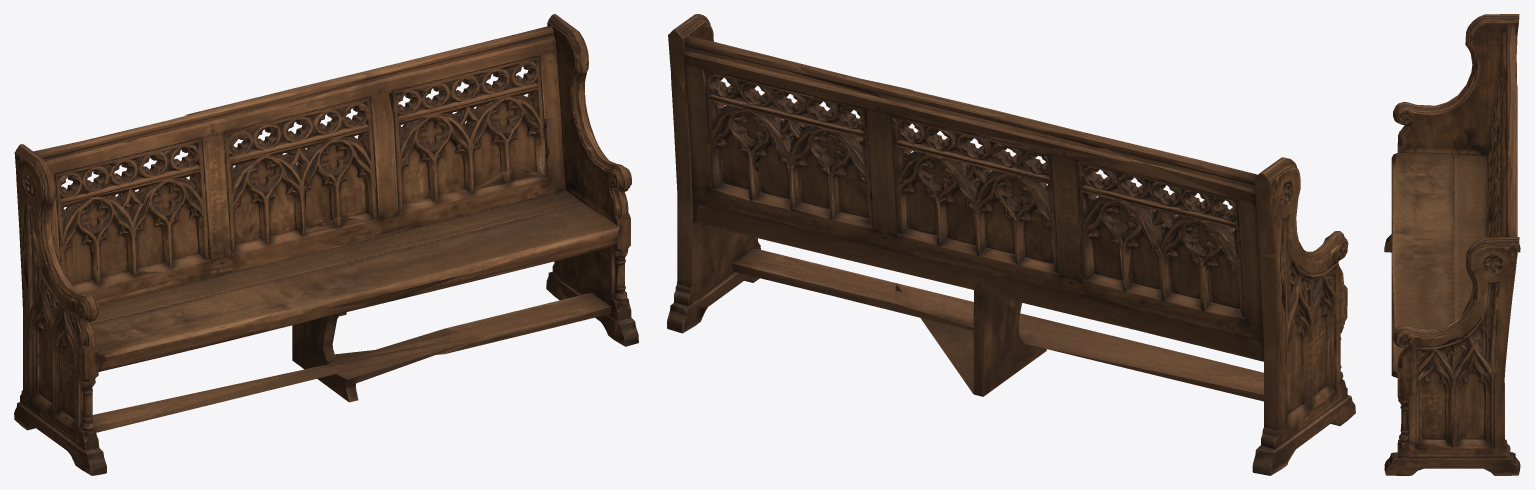
File: pew-game.glb
The picture shows the model from 3 angles, left to right: view 1: azimuth 30°, elevation 25°; view 2: azimuth 150°, elevation 25°; view 3: azimuth 270°, elevation 25°; orthographic projection. The views are drawn at different scales.
Parts seen in each view (by area): view 1: Mesh_0; view 2: Mesh_0; view 3: Mesh_0.
Boxes of the visible parts, x1,y1,x2,y2 form: Mesh_0: [14, 14, 638, 475]; Mesh_0: [667, 14, 1355, 475]; Mesh_0: [1384, 14, 1520, 475].
Size of the model in its own units: 1.89 by 0.9005 by 0.4724.
Materials: 1 (1 with a texture image).
